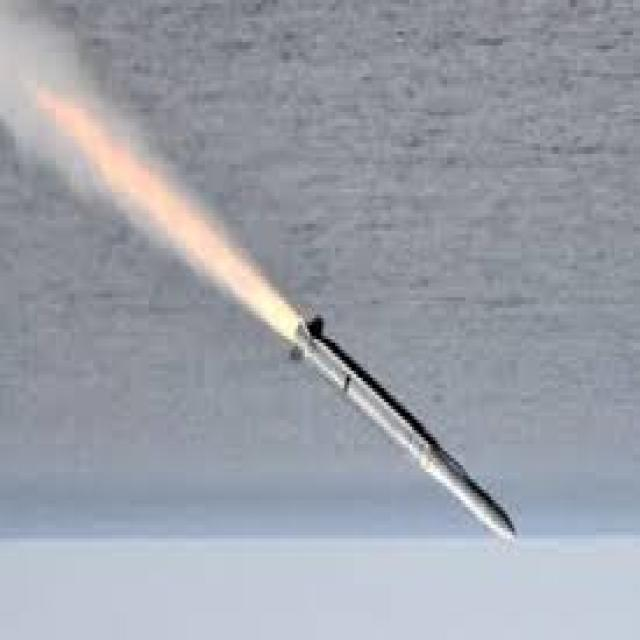missile: (279, 314, 518, 541)
